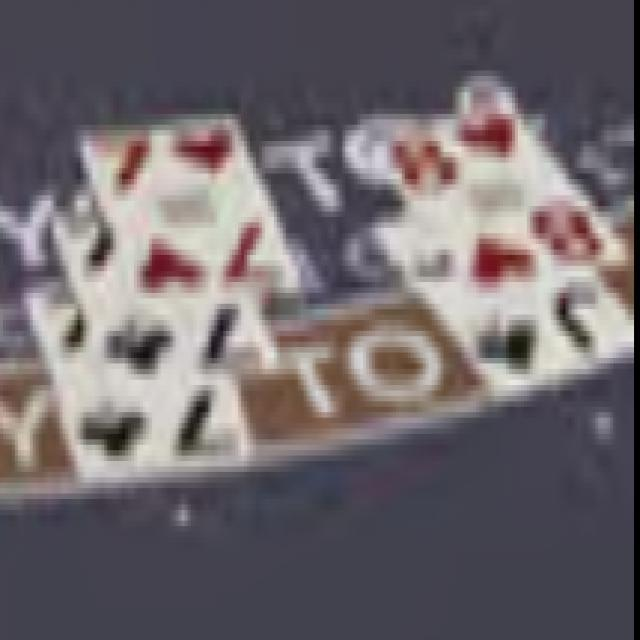Card-7: (28, 273, 252, 480), (50, 193, 279, 372), (85, 117, 302, 301)
Card-8: (381, 95, 621, 297)
Card-J: (378, 210, 633, 404)
